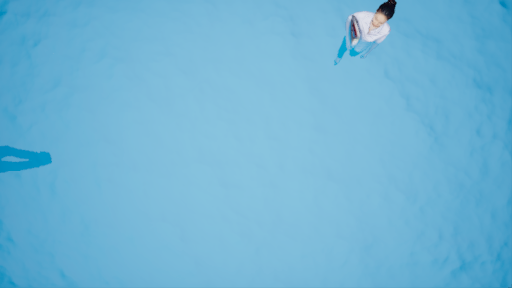person: (336, 2, 397, 69)
